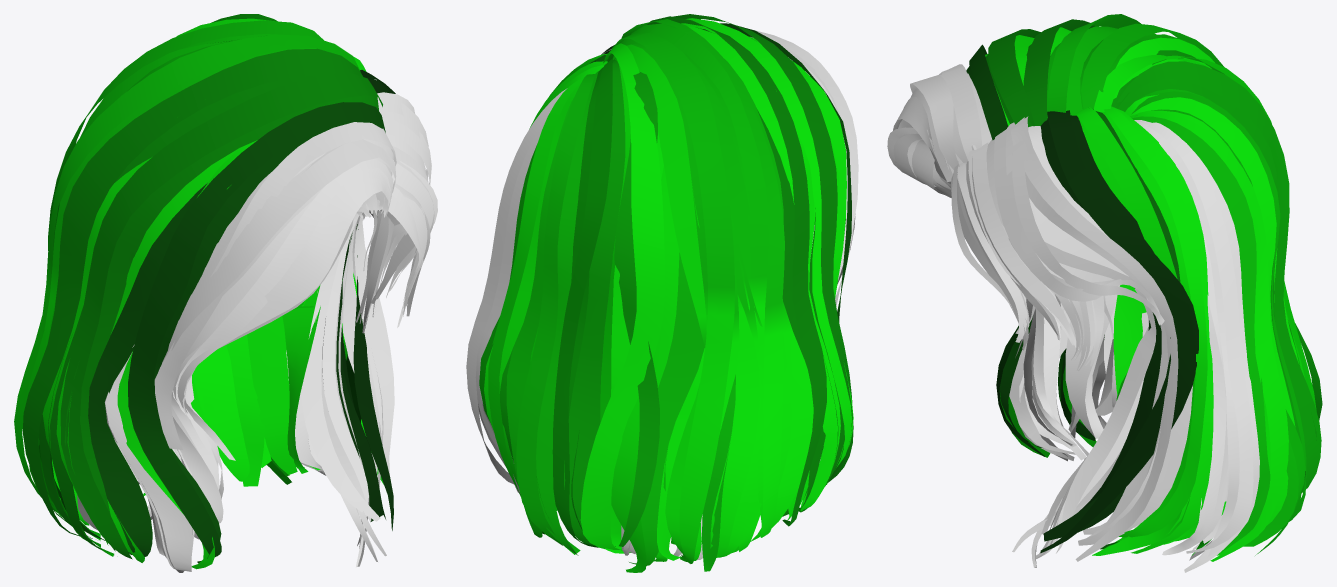
File: HairNormalModified02.fbx
The picture shows the model from 3 angles, left to right: view 1: azimuth 30°, elevation 25°; view 2: azimuth 150°, elevation 25°; view 3: azimuth 270°, elevation 25°; orthographic projection. The views are drawn at different scales.
Parts seen in each view (by area): view 1: TZ1_82501_hair.001; view 2: TZ1_82501_hair.001; view 3: TZ1_82501_hair.001.
Boxes of the visible parts, x1=… form: TZ1_82501_hair.001: x1=14, y1=14, x2=437, y2=572; TZ1_82501_hair.001: x1=466, y1=14, x2=858, y2=572; TZ1_82501_hair.001: x1=887, y1=14, x2=1322, y2=572.
Bounding box in the file's own units: 24.85 × 26.38 × 33.53.
